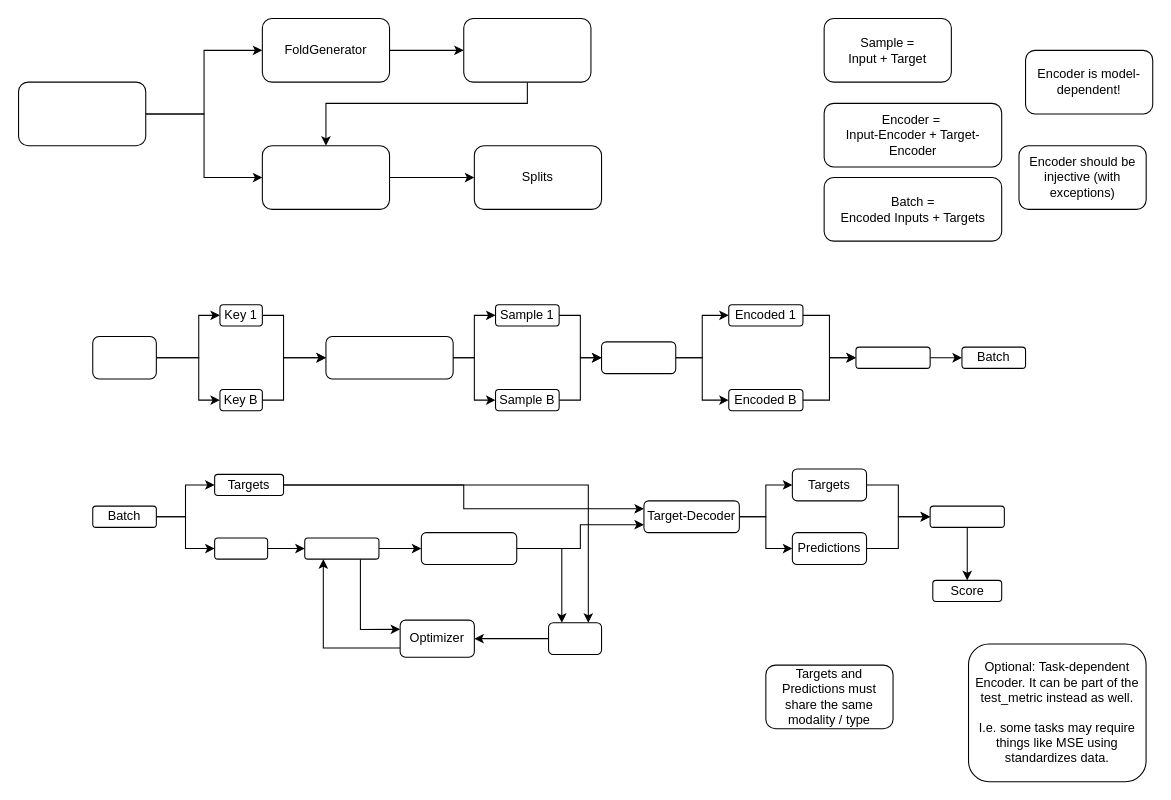
Image size: 1171x800. Some labels were removed from this diagram. The centre of each missing label's shape, as x and y in pixels:
"collated_fn" belongs at (892,357).
"Encoder" belongs at (638,357).
"Folds" belongs at (527,49).
"Inputs" belongs at (241,548).
"Loss" belongs at (574,638).
"Model" belongs at (341,548).
"Outputs" belongs at (468,548).
"SampleGenerator" belongs at (389,357).
"Sampler" belongs at (124,357).
"SplitGenerrator" belongs at (325,177).
"Test_Metric" belongs at (966,516).
"TimeSeriesDataset TimeSeriesCollection" belongs at (81,113).
